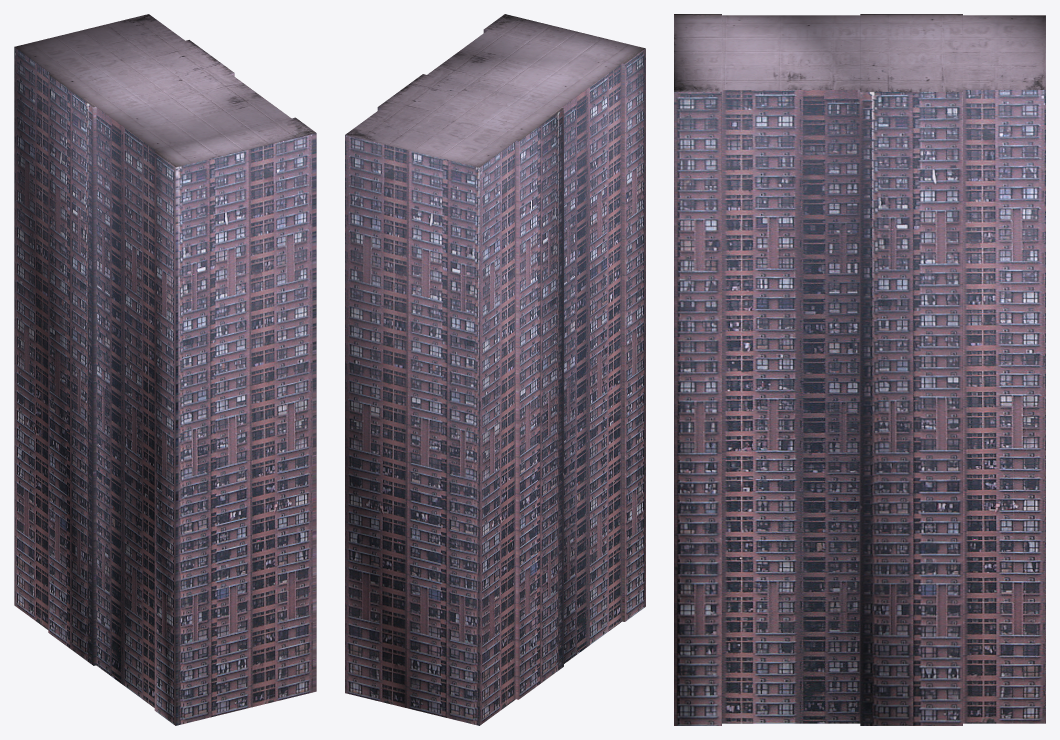
File: building2Low.obj
3 views of the same model, side by side, from view 1: azimuth 30°, elevation 25°; view 2: azimuth 150°, elevation 25°; view 3: azimuth 270°, elevation 25° (orthographic). The views are drawn at different scales.
Parts seen in each view (by area): view 1: building2; view 2: building2; view 3: building2.
Part boxes in pixels (<box>): building2: <box>14,14,316,725</box>; building2: <box>345,14,645,725</box>; building2: <box>674,14,1045,725</box>.
Bounding box in the file's own units: 22.94 × 86.85 × 46.17.
Materials: 1 (1 with a texture image).
